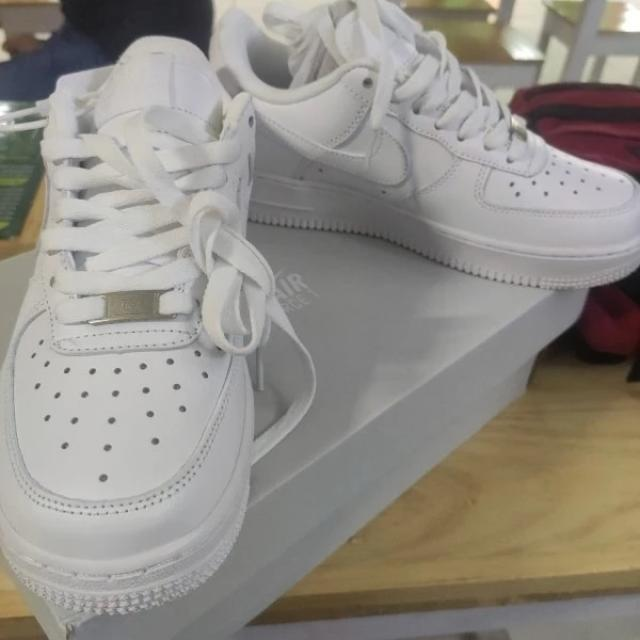nike original air force: (0, 31, 257, 617), (200, 0, 640, 293)
